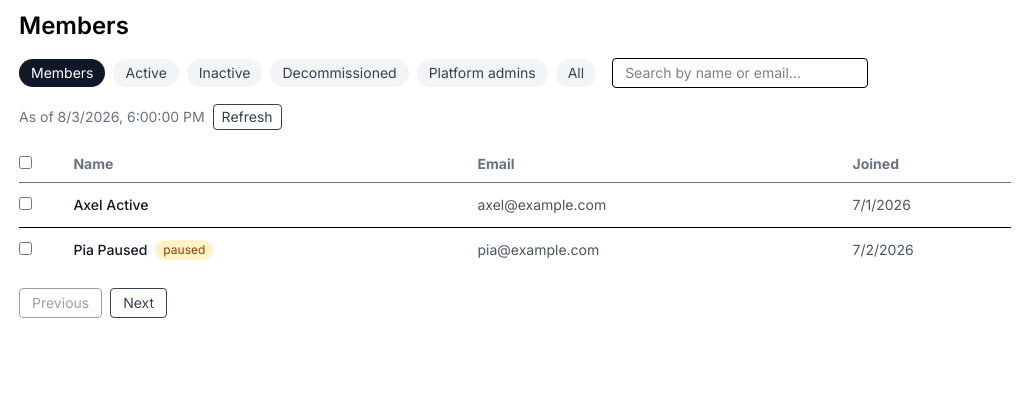
it: AdminMembersList — selection, page-scoped and explicit (FEAT-H039 STORY-2) › selection clears on page, filter, and search changes
Click the checkbox named "Select Axel Active" at (26, 204), box [19,197,32,210]
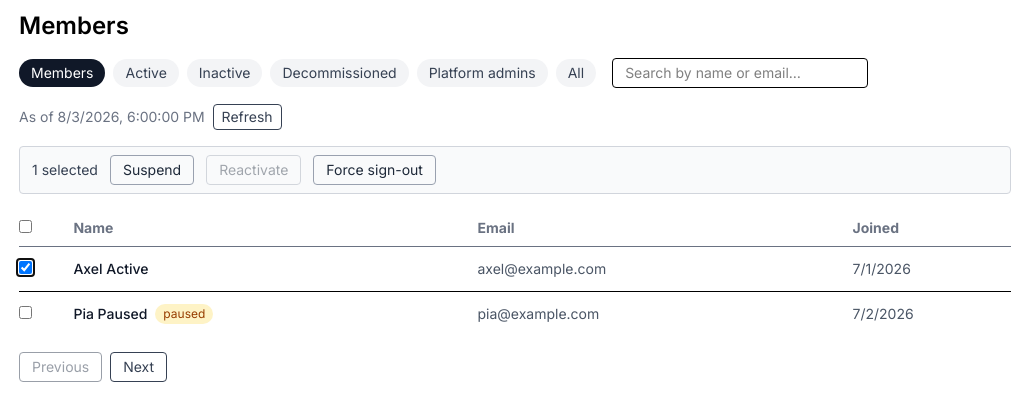
Click the button with test id "pager-next" at (139, 367), box [110,352,167,382]
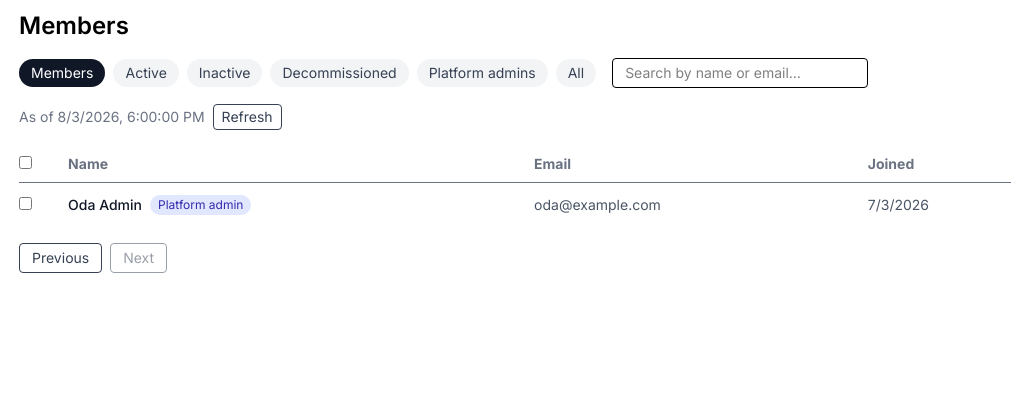
Check: the text with test id "selection-count" is gone
Click the checkbox named "Select Oda Admin" at (26, 204), box [19,197,32,210]
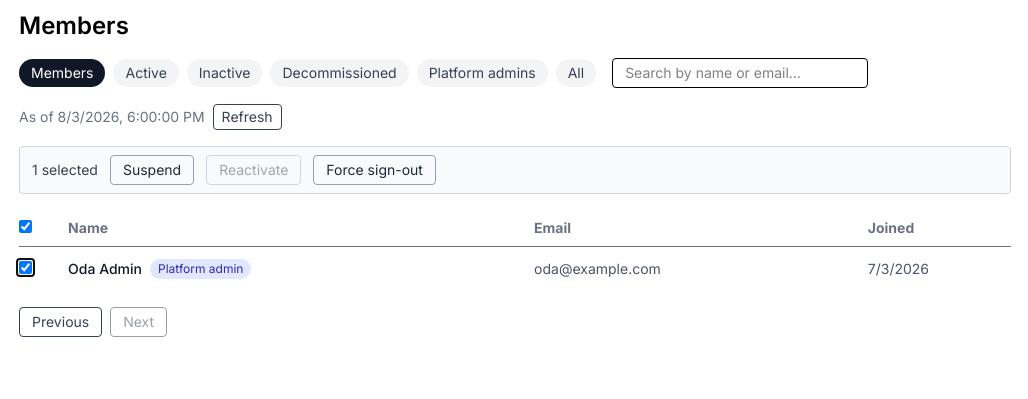
Click the tab "Active" at (146, 73), box [114,59,179,87]
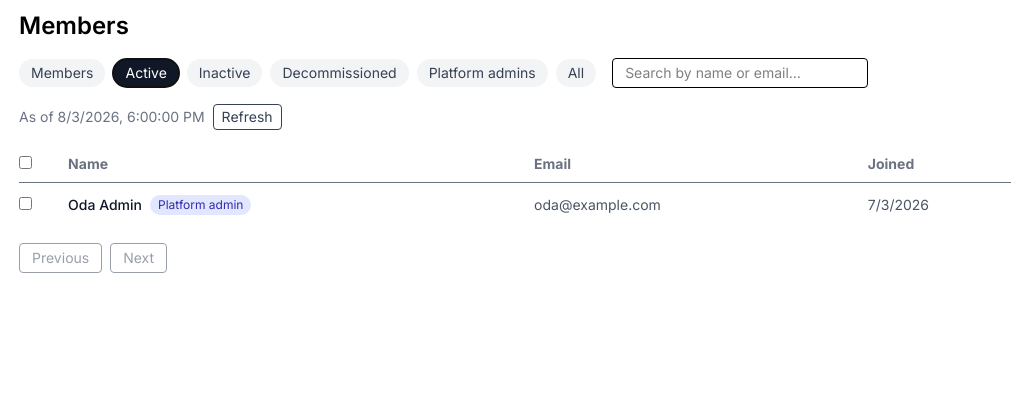
Check: the text with test id "selection-count" is gone
